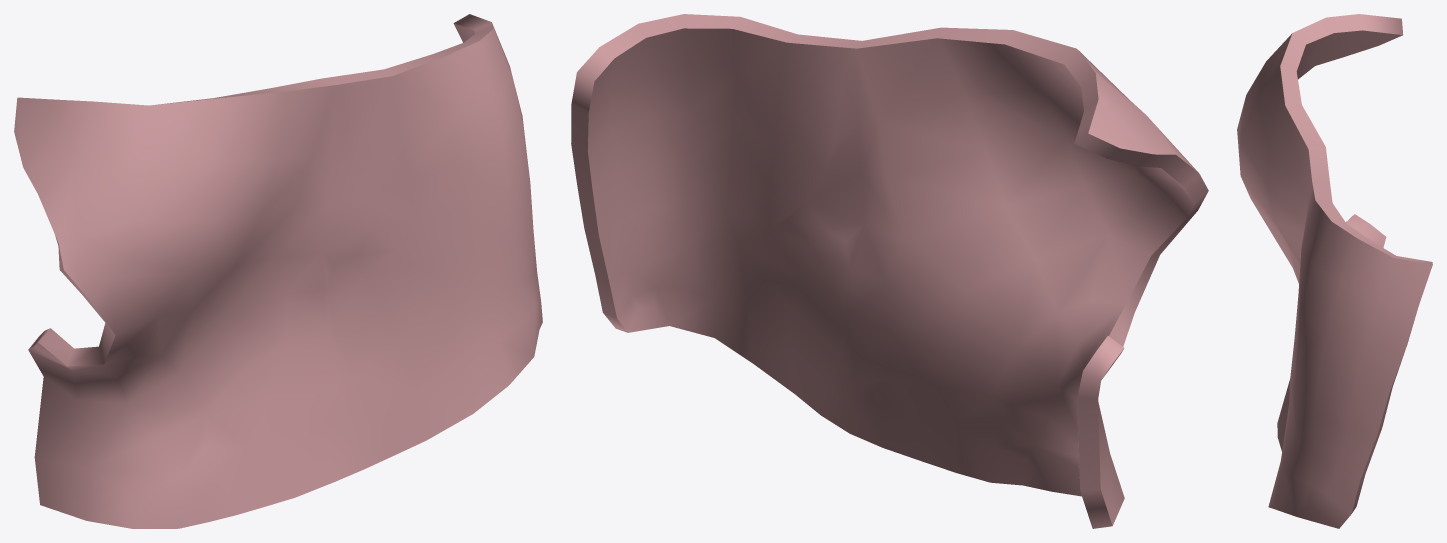
The picture shows the model from 3 angles, left to right: view 1: azimuth 30°, elevation 25°; view 2: azimuth 150°, elevation 25°; view 3: azimuth 270°, elevation 25°; orthographic projection. The views are drawn at different scales.
Parts seen in each view (by area): view 1: ZA_f358b67221dcf00c; view 2: ZA_f358b67221dcf00c; view 3: ZA_f358b67221dcf00c.
Boxes of the visible parts, x1=… form: ZA_f358b67221dcf00c: x1=14, y1=14, x2=542, y2=528; ZA_f358b67221dcf00c: x1=571, y1=14, x2=1208, y2=528; ZA_f358b67221dcf00c: x1=1237, y1=14, x2=1432, y2=528.
Size of the model in its own units: 0.0924 by 0.0719 by 0.0329.
